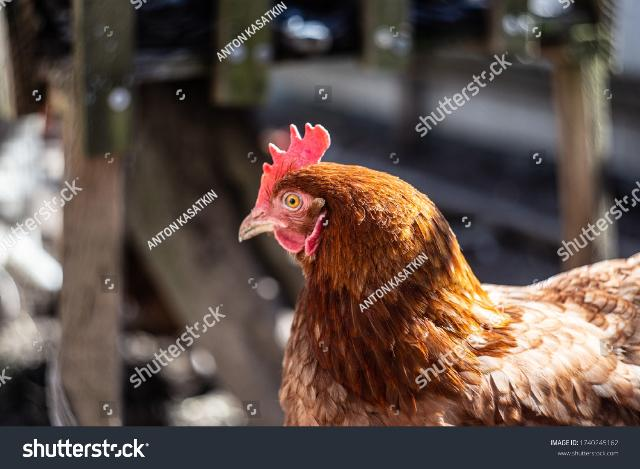Chicken: (238, 122, 640, 426)
